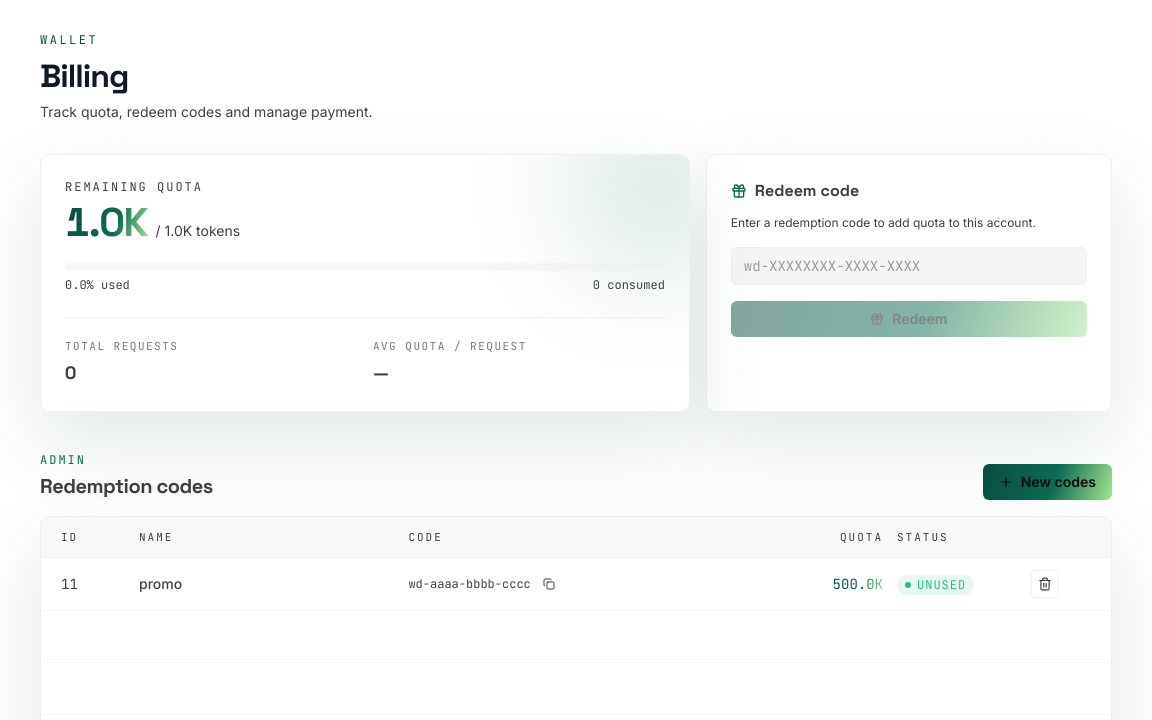
Test case: /console/billing redemption delete errors › falls back to the i18n message for non-API errors
Check: the text "promo" is shown, box [139, 575, 182, 592]
Click the button named "Delete".
click(1045, 584)  # box [1031, 570, 1059, 598]
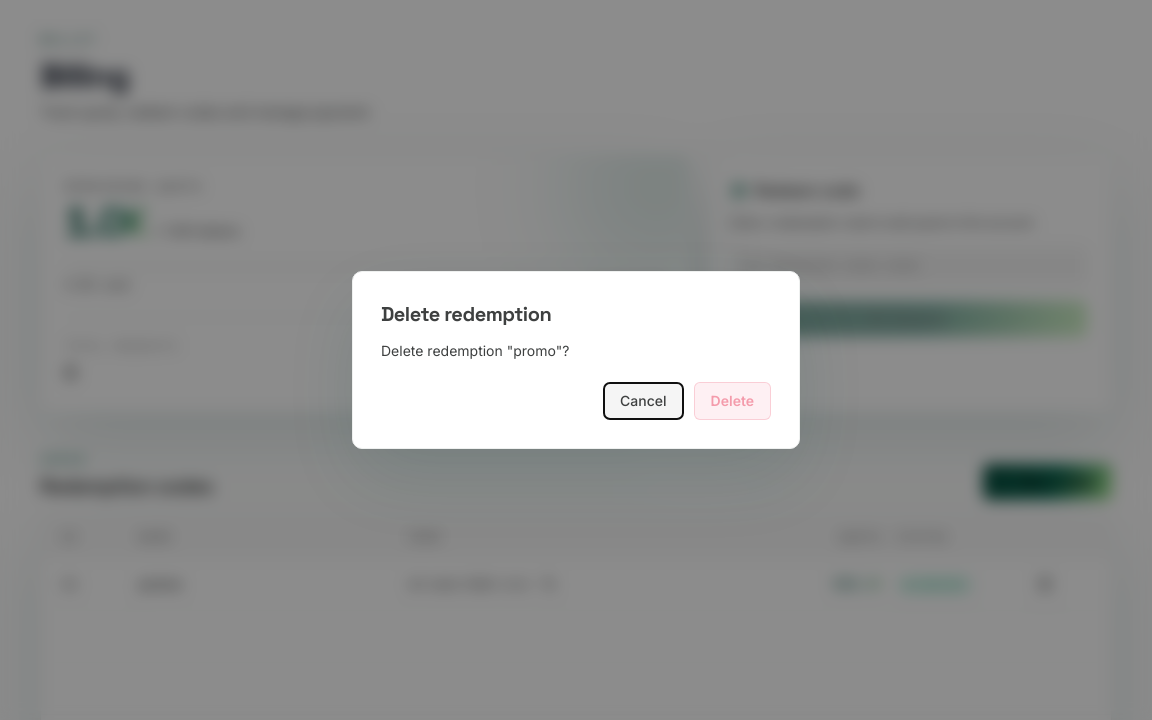
Click the button "Delete".
click(732, 401)  # box [694, 382, 771, 420]
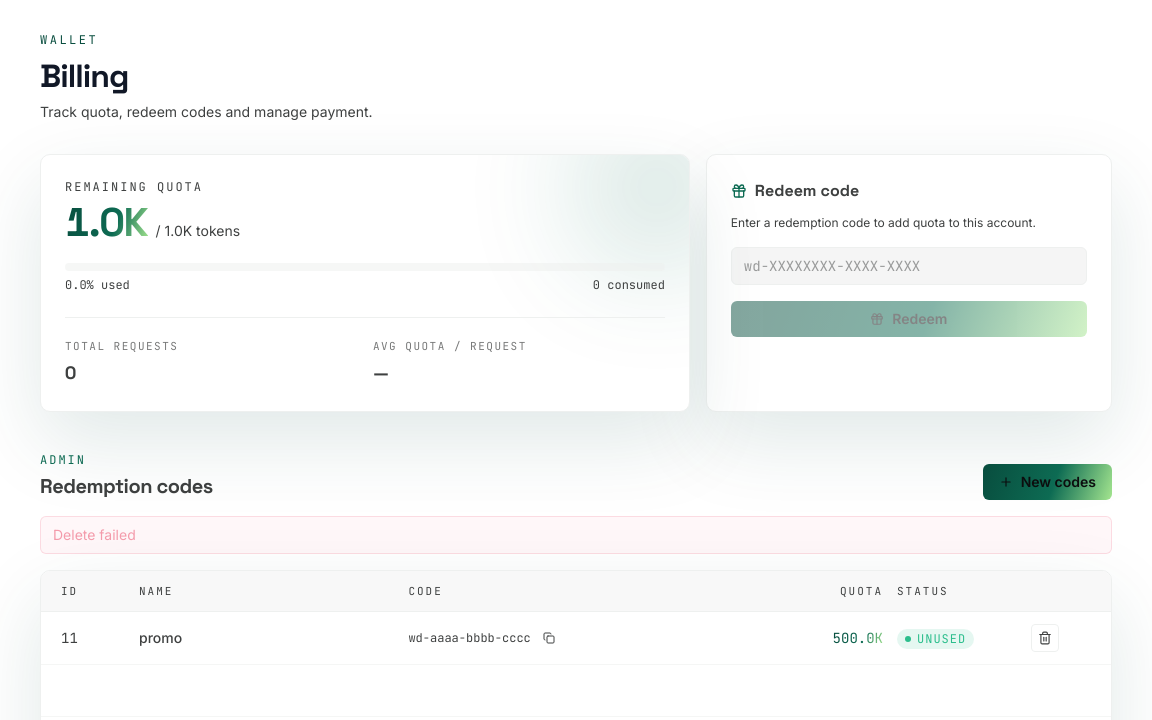
Check: the text "Delete failed" is shown, box [40, 516, 1112, 554]
